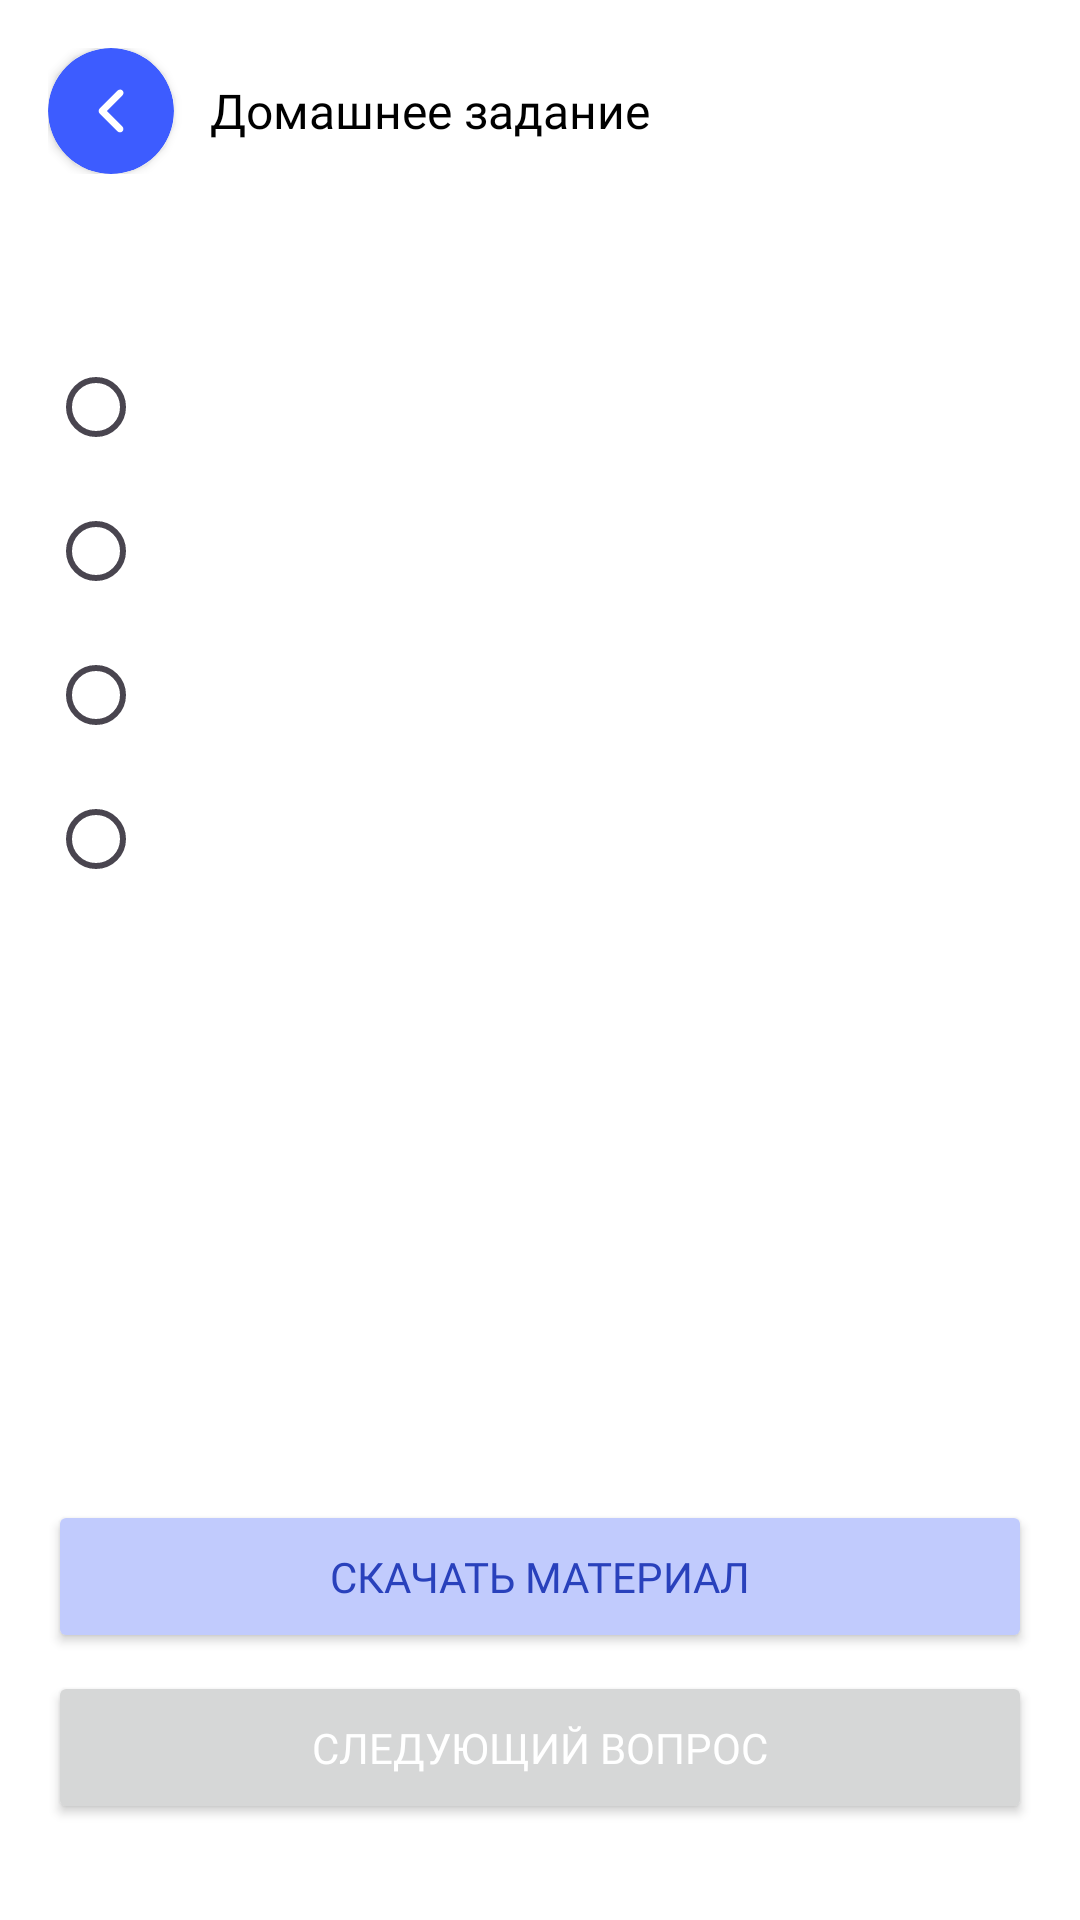

Where icons sit on this 1080 x 1920 app screen, as (x1, y1, x2, y2):
back: (48, 48, 174, 174)
